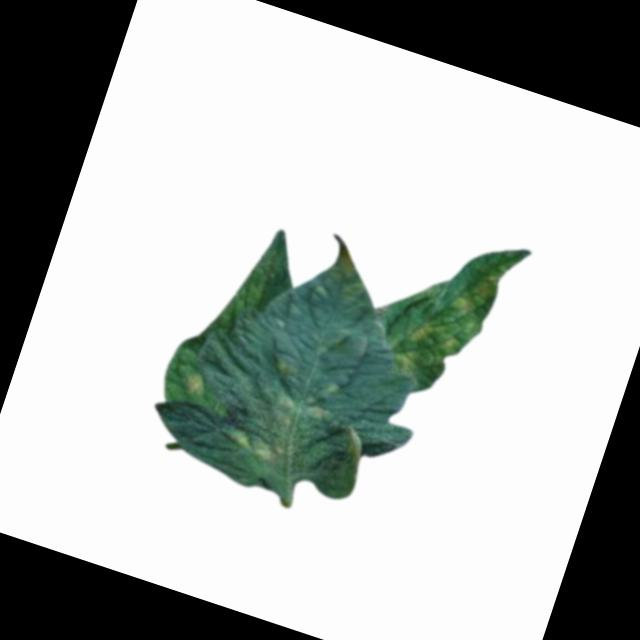Leaf_Mold: (379, 227, 510, 400), (221, 376, 337, 480), (180, 367, 213, 402)
